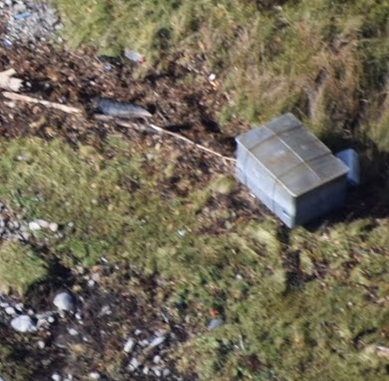cuboid: (227, 107, 355, 234), (328, 145, 365, 190)
straight_bar: (153, 119, 221, 158), (4, 88, 86, 117), (93, 94, 153, 121)
white_in_green: (109, 31, 160, 77), (192, 57, 229, 95)
